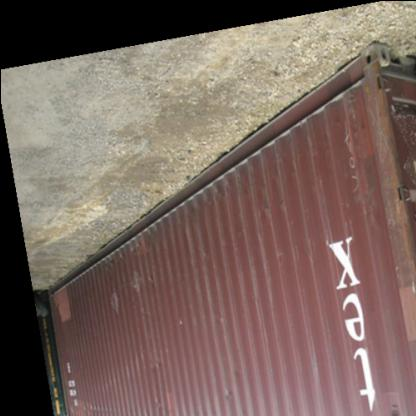Damage: (372, 74, 412, 282), (106, 260, 162, 320), (238, 185, 298, 237), (334, 119, 360, 208), (178, 180, 224, 218), (47, 284, 85, 328), (130, 349, 166, 386), (216, 378, 238, 410), (174, 312, 190, 336)
